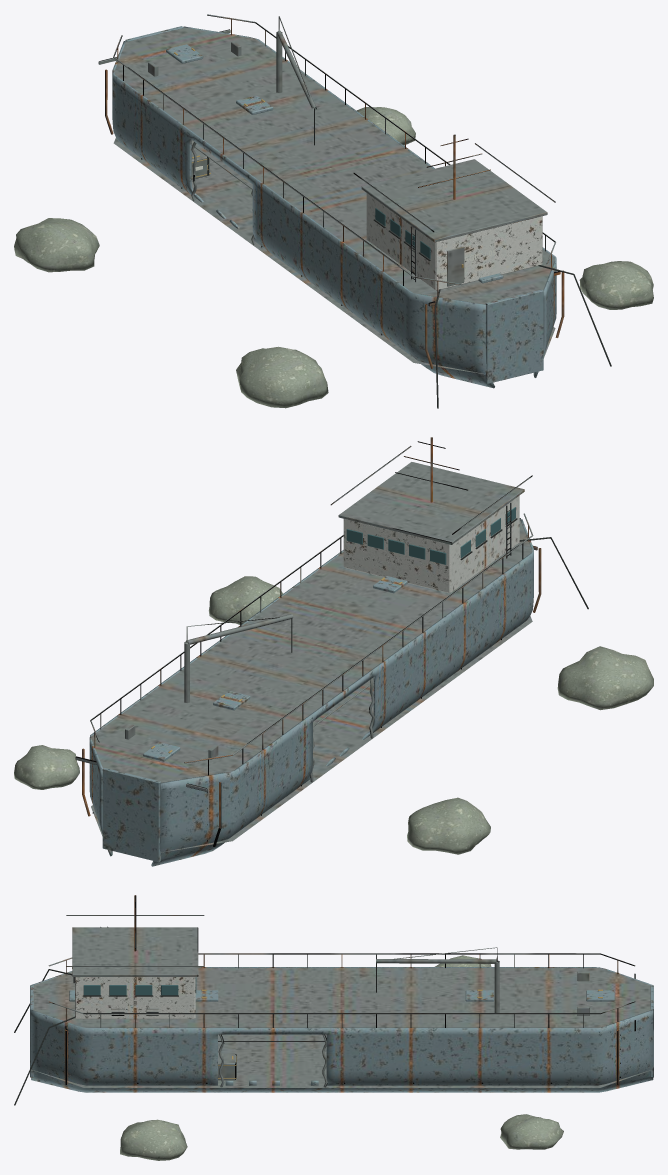
Rendered from wreckward_freighter.glb.
3 renders of one model, top to bottom at view 1: azimuth 30°, elevation 25°; view 2: azimuth 150°, elevation 25°; view 3: azimuth 270°, elevation 25°, orthographic. The views are drawn at different scales.
Parts seen in each view (by area): view 1: Freighter finish Corroded structural steel, Freighter finish Oxidized hull coating, Freighter finish Encrusted seabed stones, Freighter finish Weathered bridge enamel, Freighter finish Sealed equipment rubber; view 2: Freighter finish Corroded structural steel, Freighter finish Oxidized hull coating, Freighter finish Encrusted seabed stones, Freighter finish Weathered bridge enamel, Freighter finish Clouded bridge glazing; view 3: Freighter finish Corroded structural steel, Freighter finish Oxidized hull coating, Freighter finish Encrusted seabed stones, Freighter finish Weathered bridge enamel, Freighter finish Clouded bridge glazing, Freighter finish Sealed equipment rubber.
Part boxes in pixels (x1,y1,x2,y2): Freighter finish Corroded structural steel: (98,14,564,374); Freighter finish Oxidized hull coating: (112,26,556,388); Freighter finish Encrusted seabed stones: (14,107,653,408); Freighter finish Weathered bridge enamel: (366,193,542,290); Freighter finish Sealed equipment rubber: (207,108,611,408); Freighter finish Corroded structural steel: (75,437,541,852); Freighter finish Oxidized hull coating: (89,518,533,866); Freighter finish Encrusted seabed stones: (14,576,653,854); Freighter finish Weathered bridge enamel: (343,495,519,593); Freighter finish Clouded bridge glazing: (346,507,515,564); Freighter finish Corroded structural steel: (32,895,651,1087); Freighter finish Oxidized hull coating: (30,967,653,1092); Freighter finish Encrusted seabed stones: (120,955,563,1160); Freighter finish Weathered bridge enamel: (75,977,195,1019); Freighter finish Clouded bridge glazing: (83,977,196,995); Freighter finish Sealed equipment rubber: (14,963,376,1105).
Size of what is drawn, in the model's own units: 25.87 by 11.55 by 37.14.
9 materials, 4 textured.
